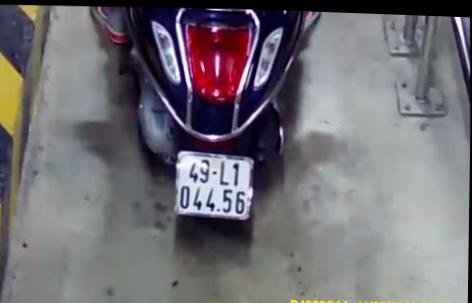LP: (172, 145, 255, 225)
